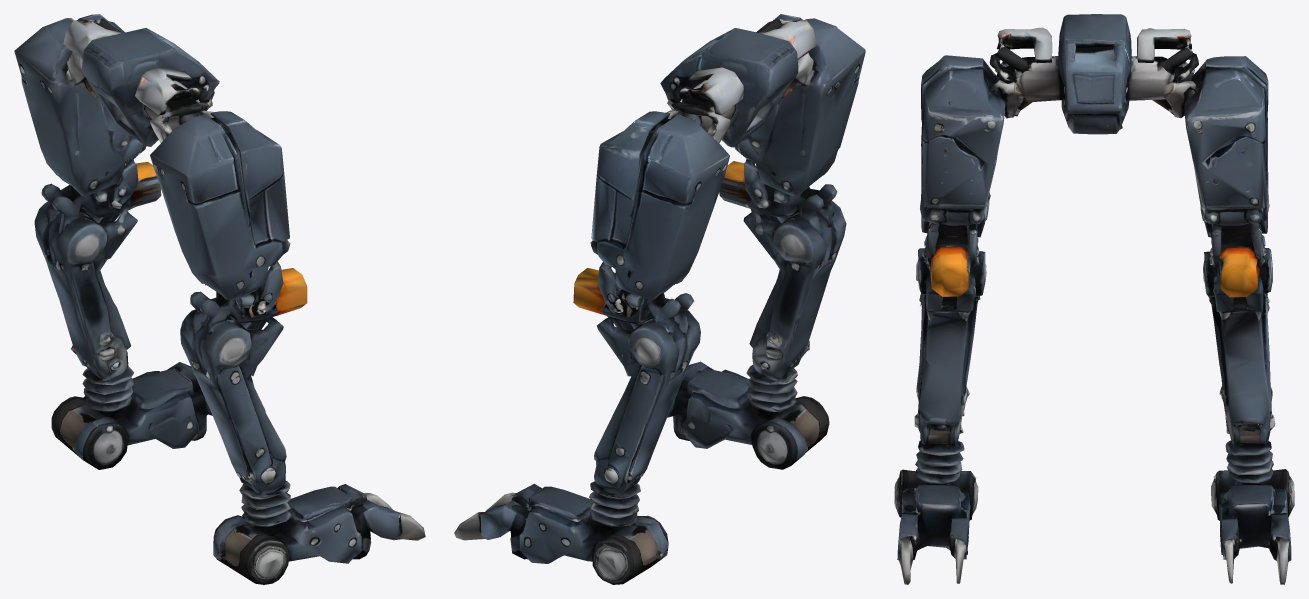
3 views of the same model, side by side, from view 1: azimuth 30°, elevation 25°; view 2: azimuth 150°, elevation 25°; view 3: azimuth 270°, elevation 25° (orthographic).
Parts seen in each view (by area): view 1: tripo_node_7cf78196-d4ec-425a-89b1-beca45029e12; view 2: tripo_node_7cf78196-d4ec-425a-89b1-beca45029e12; view 3: tripo_node_7cf78196-d4ec-425a-89b1-beca45029e12.
Part boxes in pixels (box(x1,y1,x2,y2)): tripo_node_7cf78196-d4ec-425a-89b1-beca45029e12: box(14, 14, 425, 584); tripo_node_7cf78196-d4ec-425a-89b1-beca45029e12: box(454, 14, 865, 584); tripo_node_7cf78196-d4ec-425a-89b1-beca45029e12: box(894, 14, 1294, 584).
Size of the model in its own units: 0.5099 by 0.9995 by 0.7656.
Materials: 1 (1 with a texture image).
